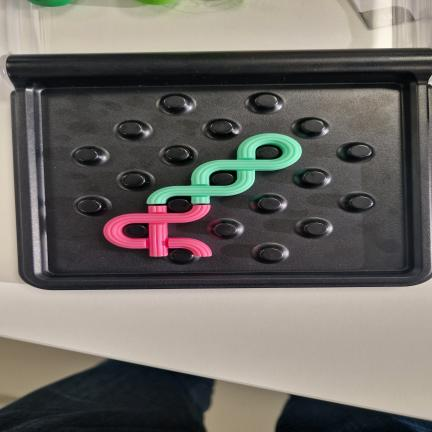F_Teal: (147, 134, 301, 205), (188, 242, 189, 242)
G_Pink: (104, 205, 211, 256)
board: (7, 50, 432, 289)
hinge: (3, 45, 432, 85)
pin: (347, 144, 372, 159), (165, 146, 190, 161), (169, 249, 194, 264), (119, 121, 143, 136), (77, 199, 102, 213), (75, 148, 98, 163), (257, 145, 281, 159), (122, 173, 146, 187), (349, 196, 373, 210), (257, 197, 281, 211), (213, 223, 237, 237), (163, 95, 186, 109), (255, 94, 278, 108), (301, 119, 324, 133), (210, 120, 233, 134), (124, 224, 147, 238), (260, 247, 283, 261), (303, 171, 326, 184), (304, 222, 327, 235), (211, 173, 235, 185), (168, 199, 190, 212)
